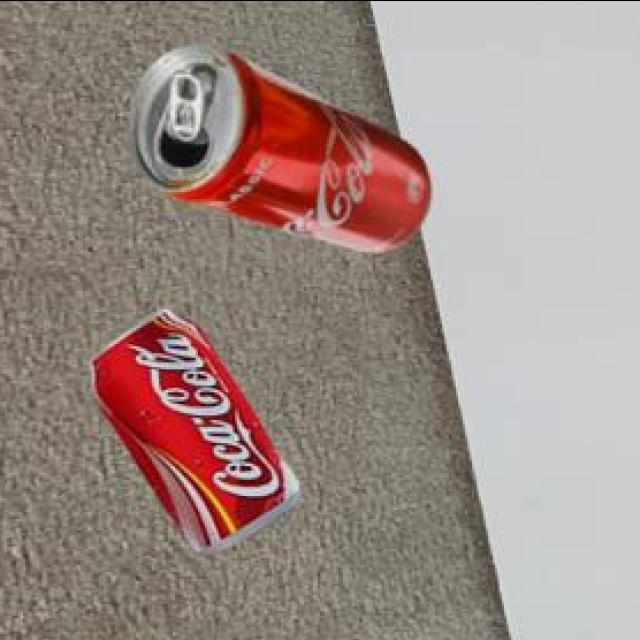logam: (132, 40, 434, 247), (91, 305, 303, 551)
